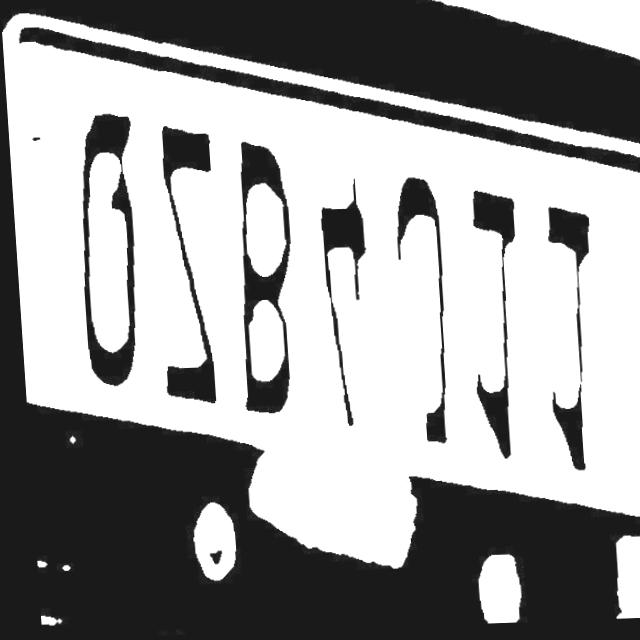1: (530, 204, 609, 489), (459, 181, 535, 474)
4: (313, 180, 380, 436)
b: (215, 137, 306, 427)
j: (365, 175, 462, 462)
q: (61, 102, 157, 393)
z: (141, 115, 226, 408)
